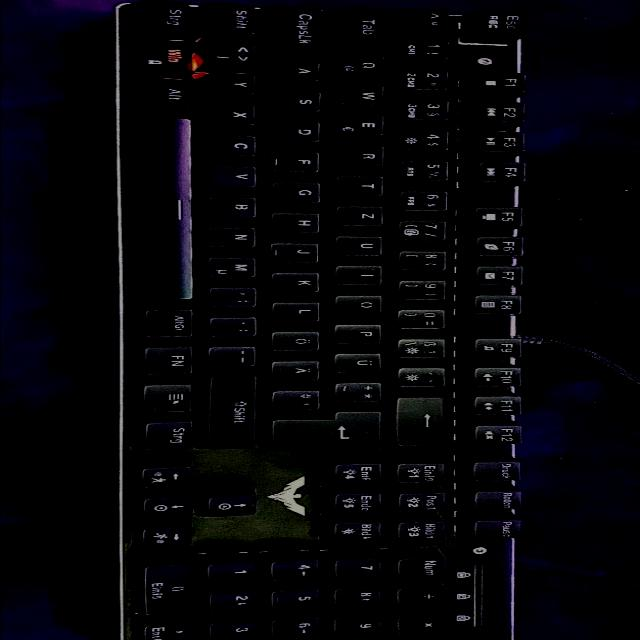0: (399, 307, 449, 329)
1: (400, 37, 454, 60)
2: (400, 68, 453, 90)
3: (400, 97, 453, 120)
4: (400, 128, 452, 151)
5: (400, 158, 452, 181)
6: (399, 189, 453, 211)
7: (397, 218, 449, 240)
8: (399, 249, 449, 271)
9: (399, 278, 450, 300)
a: (272, 58, 325, 80)
accent: (400, 365, 449, 387)
ae: (273, 358, 325, 380)
alt-left: (143, 76, 195, 108)
altgr-right: (147, 307, 199, 337)
b: (211, 194, 262, 217)
c: (211, 133, 262, 156)
caret: (402, 7, 451, 29)
comma: (212, 285, 262, 307)
d: (273, 119, 325, 141)
del: (399, 395, 449, 445)
e: (338, 112, 390, 134)
enter: (272, 410, 386, 446)
f: (274, 149, 325, 171)
g: (274, 180, 325, 202)
h: (273, 211, 325, 233)
hash: (273, 388, 325, 410)
i: (338, 263, 388, 285)
j: (273, 240, 324, 262)
k: (273, 270, 325, 292)
keyboard: (104, 0, 532, 640)
l: (274, 300, 325, 322)
less: (210, 40, 262, 63)
m: (210, 255, 261, 277)
minus: (210, 344, 261, 366)
n: (210, 225, 261, 247)
o: (337, 293, 388, 315)
oe: (273, 329, 325, 351)
p: (337, 322, 388, 344)
plus: (337, 380, 388, 402)
point: (213, 315, 261, 337)
q: (338, 52, 390, 74)
r: (339, 143, 390, 165)
s: (273, 89, 326, 111)
shift-left: (209, 1, 261, 33)
shift-lock: (273, 3, 326, 51)
shift-right: (211, 374, 262, 448)
space: (144, 113, 196, 300)
ss: (399, 336, 449, 358)
strg-left: (142, 0, 195, 31)
strg-right: (147, 419, 198, 451)
t: (339, 173, 390, 195)
tab: (339, 6, 390, 44)
u: (337, 234, 388, 256)
ue: (336, 350, 387, 372)
v: (212, 163, 262, 186)
w: (338, 82, 389, 104)
x: (209, 102, 260, 124)
y: (210, 71, 260, 93)
z: (338, 204, 389, 226)
